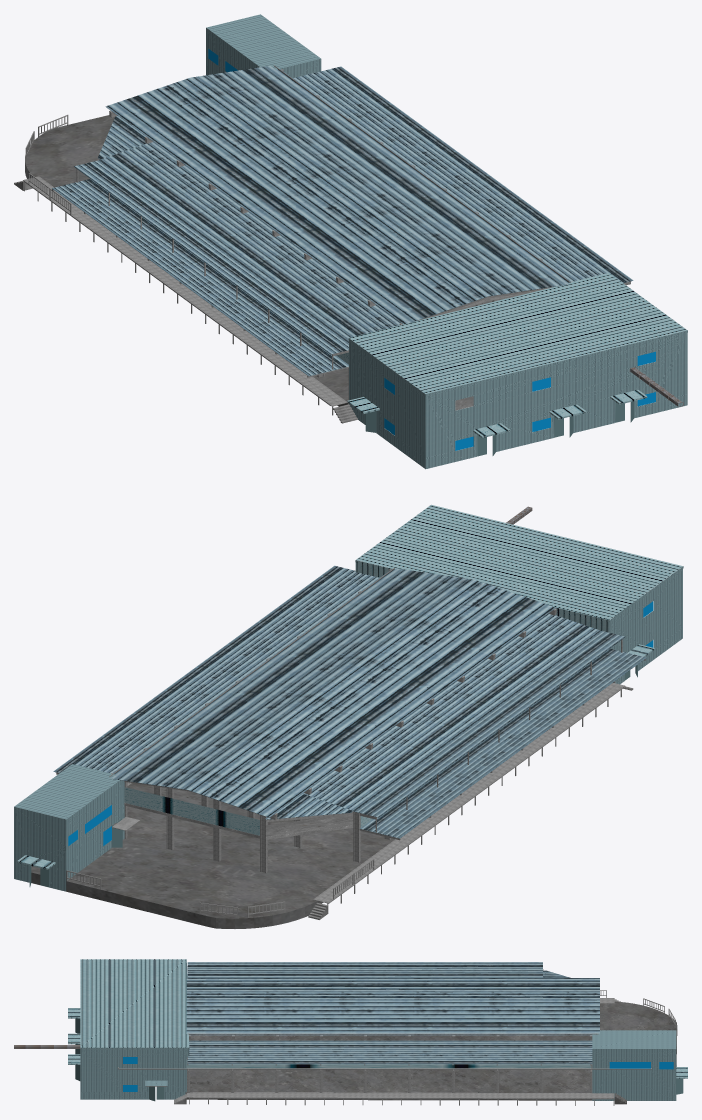
File: changfang03.gltf
3 renders of one model, top to bottom at view 1: azimuth 30°, elevation 25°; view 2: azimuth 150°, elevation 25°; view 3: azimuth 270°, elevation 25°, orthographic. The views are drawn at different scales.
Visible parts, largest first — view 1: changfang03_241, changfang03_208, changfang03_114, changfang03_16, changfang03_307, changfang03_239, changfang03_272, changfang03_66, changfang03_154, changfang03_296, changfang03_96; view 2: changfang03_208, changfang03_154, changfang03_241, changfang03_114, changfang03_16, changfang03_307, changfang03_239, changfang03_66, changfang03_272, changfang03_296, changfang03_311, changfang03_133; view 3: changfang03_241, changfang03_114, changfang03_154, changfang03_307, changfang03_208, changfang03_66, changfang03_272, changfang03_16, changfang03_303, changfang03_200, changfang03_294, changfang03_143 (+3 smaller).
Part boxes in pixels (left/top/right/bottom): changfang03_241: left=348, top=273, right=687, bottom=469; changfang03_208: left=105, top=78, right=488, bottom=324; changfang03_114: left=190, top=66, right=570, bottom=296; changfang03_16: left=98, top=116, right=400, bottom=345; changfang03_307: left=293, top=66, right=633, bottom=283; changfang03_239: left=52, top=179, right=348, bottom=376; changfang03_272: left=74, top=160, right=348, bottom=354; changfang03_66: left=206, top=14, right=321, bottom=77; changfang03_154: left=25, top=115, right=503, bottom=406; changfang03_296: left=23, top=176, right=347, bottom=406; changfang03_96: left=109, top=69, right=572, bottom=324; changfang03_208: left=188, top=580, right=555, bottom=817; changfang03_154: left=31, top=783, right=394, bottom=928; changfang03_241: left=355, top=504, right=683, bottom=684; changfang03_114: left=111, top=568, right=474, bottom=789; changfang03_16: left=265, top=613, right=600, bottom=819; changfang03_307: left=53, top=565, right=379, bottom=773; changfang03_239: left=359, top=648, right=646, bottom=838; changfang03_66: left=14, top=764, right=124, bottom=891; changfang03_272: left=353, top=630, right=625, bottom=817; changfang03_296: left=313, top=683, right=624, bottom=903; changfang03_311: left=124, top=787, right=259, bottom=835; changfang03_133: left=266, top=813, right=353, bottom=836; changfang03_241: left=80, top=959, right=189, bottom=1099; changfang03_114: left=186, top=1001, right=599, bottom=1035; changfang03_154: left=185, top=1001, right=677, bottom=1100; changfang03_307: left=187, top=1040, right=592, bottom=1064; changfang03_208: left=186, top=978, right=599, bottom=1000; changfang03_66: left=592, top=1030, right=676, bottom=1100; changfang03_272: left=187, top=962, right=542, bottom=970; changfang03_16: left=187, top=970, right=570, bottom=977; changfang03_303: left=186, top=1092, right=614, bottom=1098; changfang03_200: left=186, top=1059, right=591, bottom=1068; changfang03_294: left=118, top=1067, right=651, bottom=1069; changfang03_143: left=188, top=1033, right=598, bottom=1034.
Size of what is drawn, in the model's own units: 371 by 90.43 by 963.
7 materials, 5 textured.
